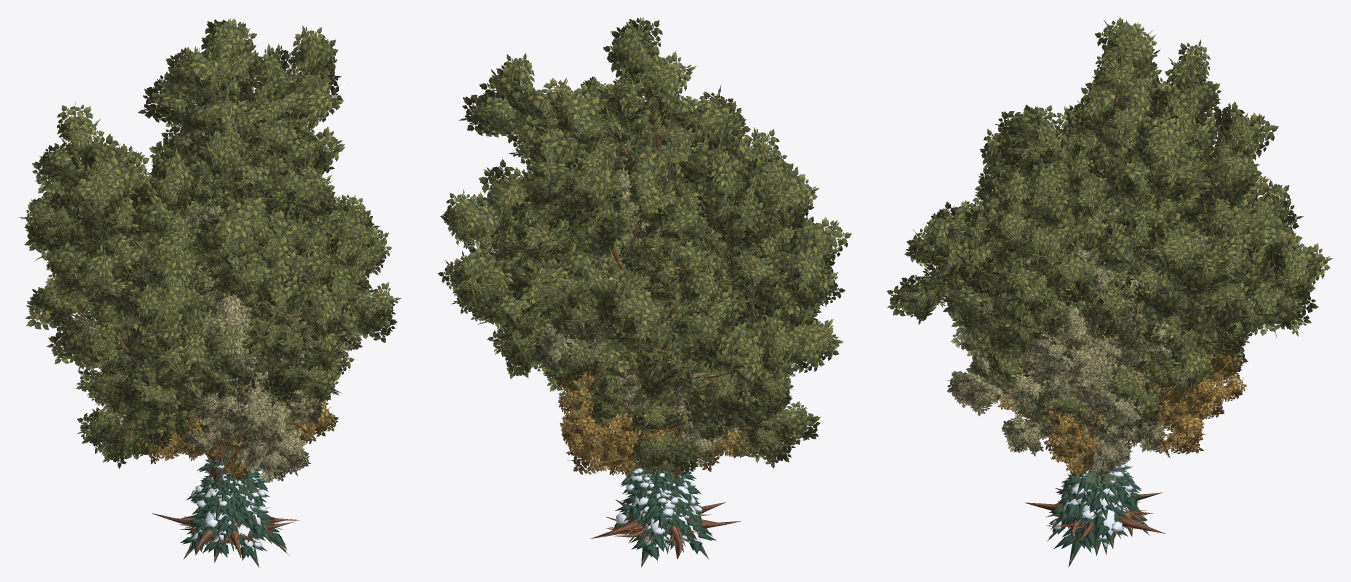
The model's file is forest.glb.
3 renders of one model, left to right at view 1: azimuth 30°, elevation 25°; view 2: azimuth 150°, elevation 25°; view 3: azimuth 270°, elevation 25°, orthographic. The views are drawn at different scales.
Visible parts, largest first — view 1: tree9_Medium, tree8_Medium, tree9_Low, Leaves_LOD0.005 (×2), tree8_Low, tree7_Medium, Alpine15_1 (×2), Leaves_LOD0.003, Leaves_LOD0.002 (×2), tree7_Low, Alpine10_1 (×2), Alpine15_2 (+1 smaller); view 2: tree9_Medium, tree8_Medium, Leaves_LOD0.002 (×2), tree7_Medium, tree9_Low, Alpine15_1 (×2), tree8_Low, tree7_Low, Leaves_LOD0.003, Leaves_LOD0.005 (×2), Leaves_LOD0.004, Alpine10_1 (×2) (+1 smaller); view 3: tree9_Medium, tree8_Medium, tree8_Low, Leaves_LOD0.002 (×2), Leaves_LOD0.004, Leaves_LOD0.005 (×2), Leaves_LOD0.003, tree9_Low, tree7_Medium, Alpine15_1 (×2), tree7_Low, Alpine15_2.
Boxes of the visible parts, x1,y1,x2,y2 form: tree9_Medium: [18, 18, 347, 557]; tree8_Medium: [61, 131, 400, 543]; tree9_Low: [27, 19, 344, 547]; Leaves_LOD0.005 (×2): [80, 203, 344, 473]; tree8_Low: [71, 141, 392, 542]; tree7_Medium: [102, 173, 348, 543]; Alpine15_1 (×2): [180, 455, 288, 567]; Leaves_LOD0.003: [102, 205, 362, 482]; Leaves_LOD0.002 (×2): [129, 386, 338, 482]; tree7_Low: [90, 188, 354, 534]; Alpine10_1 (×2): [186, 445, 258, 533]; Alpine15_2: [189, 455, 266, 551]; tree9_Medium: [438, 17, 851, 558]; tree8_Medium: [530, 114, 820, 544]; Leaves_LOD0.002 (×2): [556, 361, 763, 476]; tree7_Medium: [559, 167, 803, 538]; tree9_Low: [455, 17, 831, 558]; Alpine15_1 (×2): [612, 465, 716, 567]; tree8_Low: [506, 108, 809, 544]; tree7_Low: [564, 179, 794, 530]; Leaves_LOD0.003: [558, 287, 739, 467]; Leaves_LOD0.005 (×2): [539, 168, 782, 436]; Leaves_LOD0.004: [538, 183, 764, 440]; Alpine10_1 (×2): [634, 462, 703, 544]; tree9_Medium: [926, 17, 1332, 543]; tree8_Medium: [887, 106, 1250, 531]; tree8_Low: [895, 107, 1262, 516]; Leaves_LOD0.002 (×2): [997, 348, 1246, 475]; Leaves_LOD0.004: [963, 205, 1242, 450]; Leaves_LOD0.005 (×2): [947, 195, 1209, 443]; Leaves_LOD0.003: [947, 246, 1164, 476]; tree9_Low: [960, 17, 1323, 542]; tree7_Medium: [962, 193, 1247, 538]; Alpine15_1 (×2): [1047, 454, 1149, 567]; tree7_Low: [970, 197, 1245, 537]; Alpine15_2: [1052, 469, 1133, 539].
Bounding box in the file's own units: 44.44 × 68.82 × 52.36.
13 materials, 11 textured.
